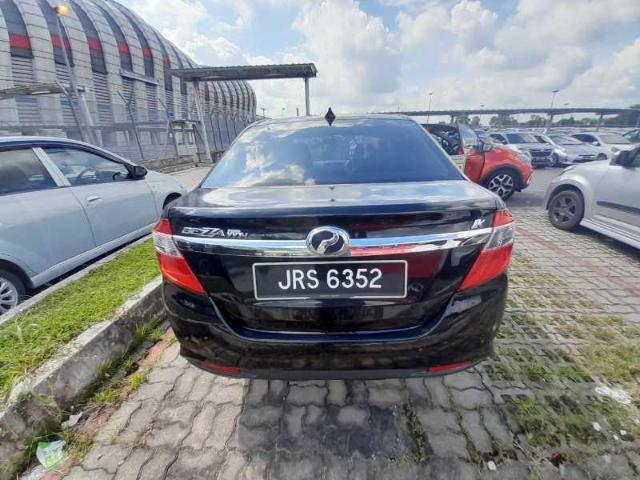License_Plate: (253, 260, 409, 302)
car: (153, 110, 517, 381)
